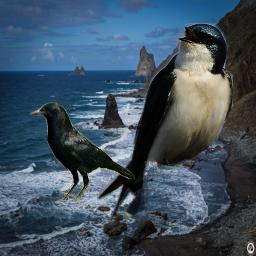Crow: (29, 102, 135, 202)
Swallow: (97, 23, 233, 225)
